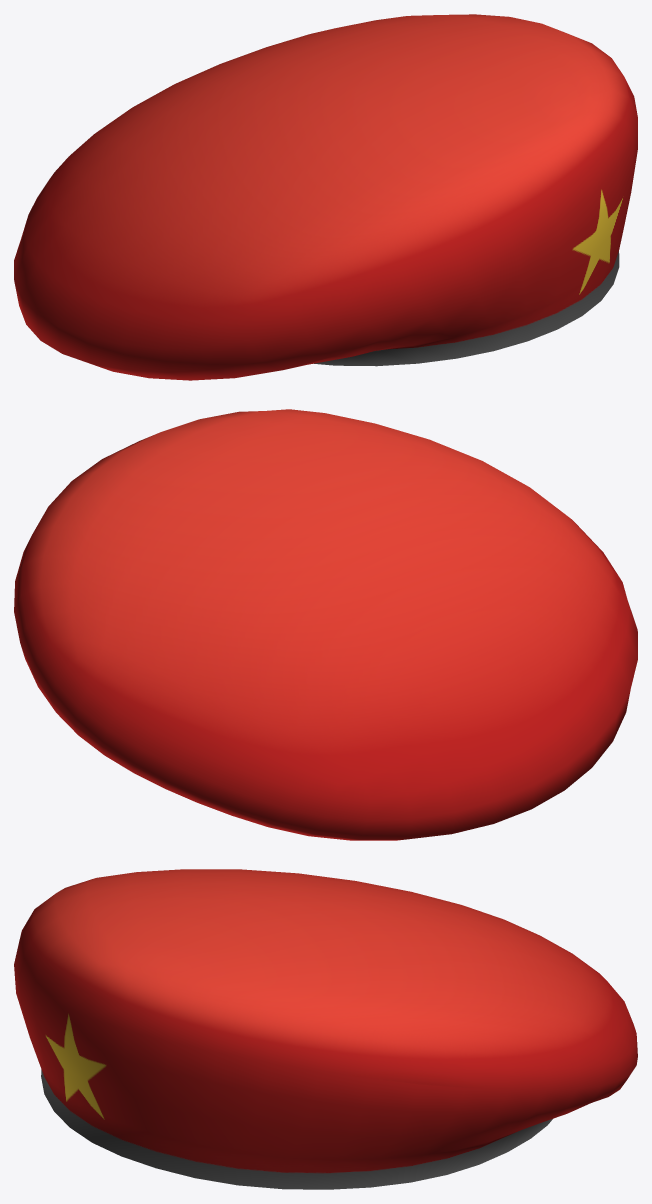
File: Military Beret.fbx
The picture shows the model from 3 angles, top to bottom: view 1: azimuth 30°, elevation 25°; view 2: azimuth 150°, elevation 25°; view 3: azimuth 270°, elevation 25°; orthographic projection. The views are drawn at different scales.
Parts seen in each view (by area): view 1: Military Beret_low; view 2: Military Beret_low; view 3: Military Beret_low.
Boxes of the visible parts, <box> form: Military Beret_low: <box>14,14,637,380</box>; Military Beret_low: <box>14,409,637,840</box>; Military Beret_low: <box>14,869,637,1189</box>.
Bounding box in the file's own units: 44.71 × 17.66 × 43.64.
